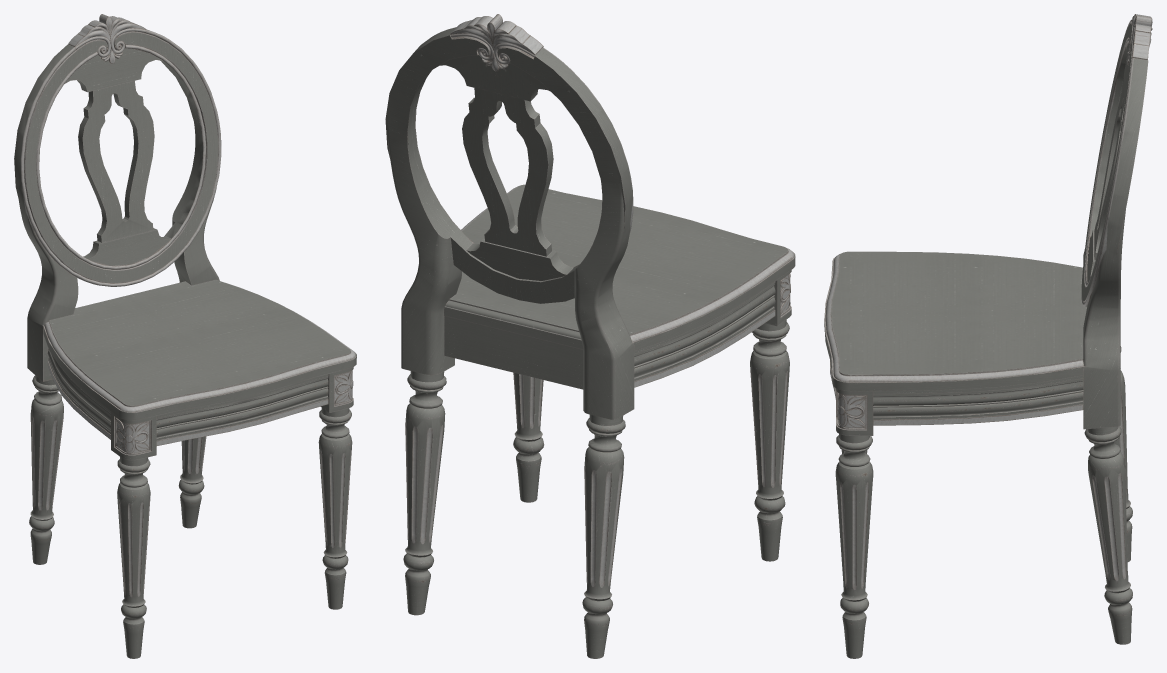
File: example127.gltf
3 renders of one model, left to right at view 1: azimuth 30°, elevation 25°; view 2: azimuth 150°, elevation 25°; view 3: azimuth 270°, elevation 25°, orthographic. The views are drawn at different scales.
Visible parts, largest first — view 1: LGHC.paint_0; view 2: LGHC.paint_0; view 3: LGHC.paint_0.
Part boxes in pixels (x1,y1,x2,y2): LGHC.paint_0: (14,14,356,658); LGHC.paint_0: (385,14,795,658); LGHC.paint_0: (824,14,1152,658).
Bounding box in the file's own units: 45.01 × 95.2 × 48.38.
Materials: 1 (1 with a texture image).
